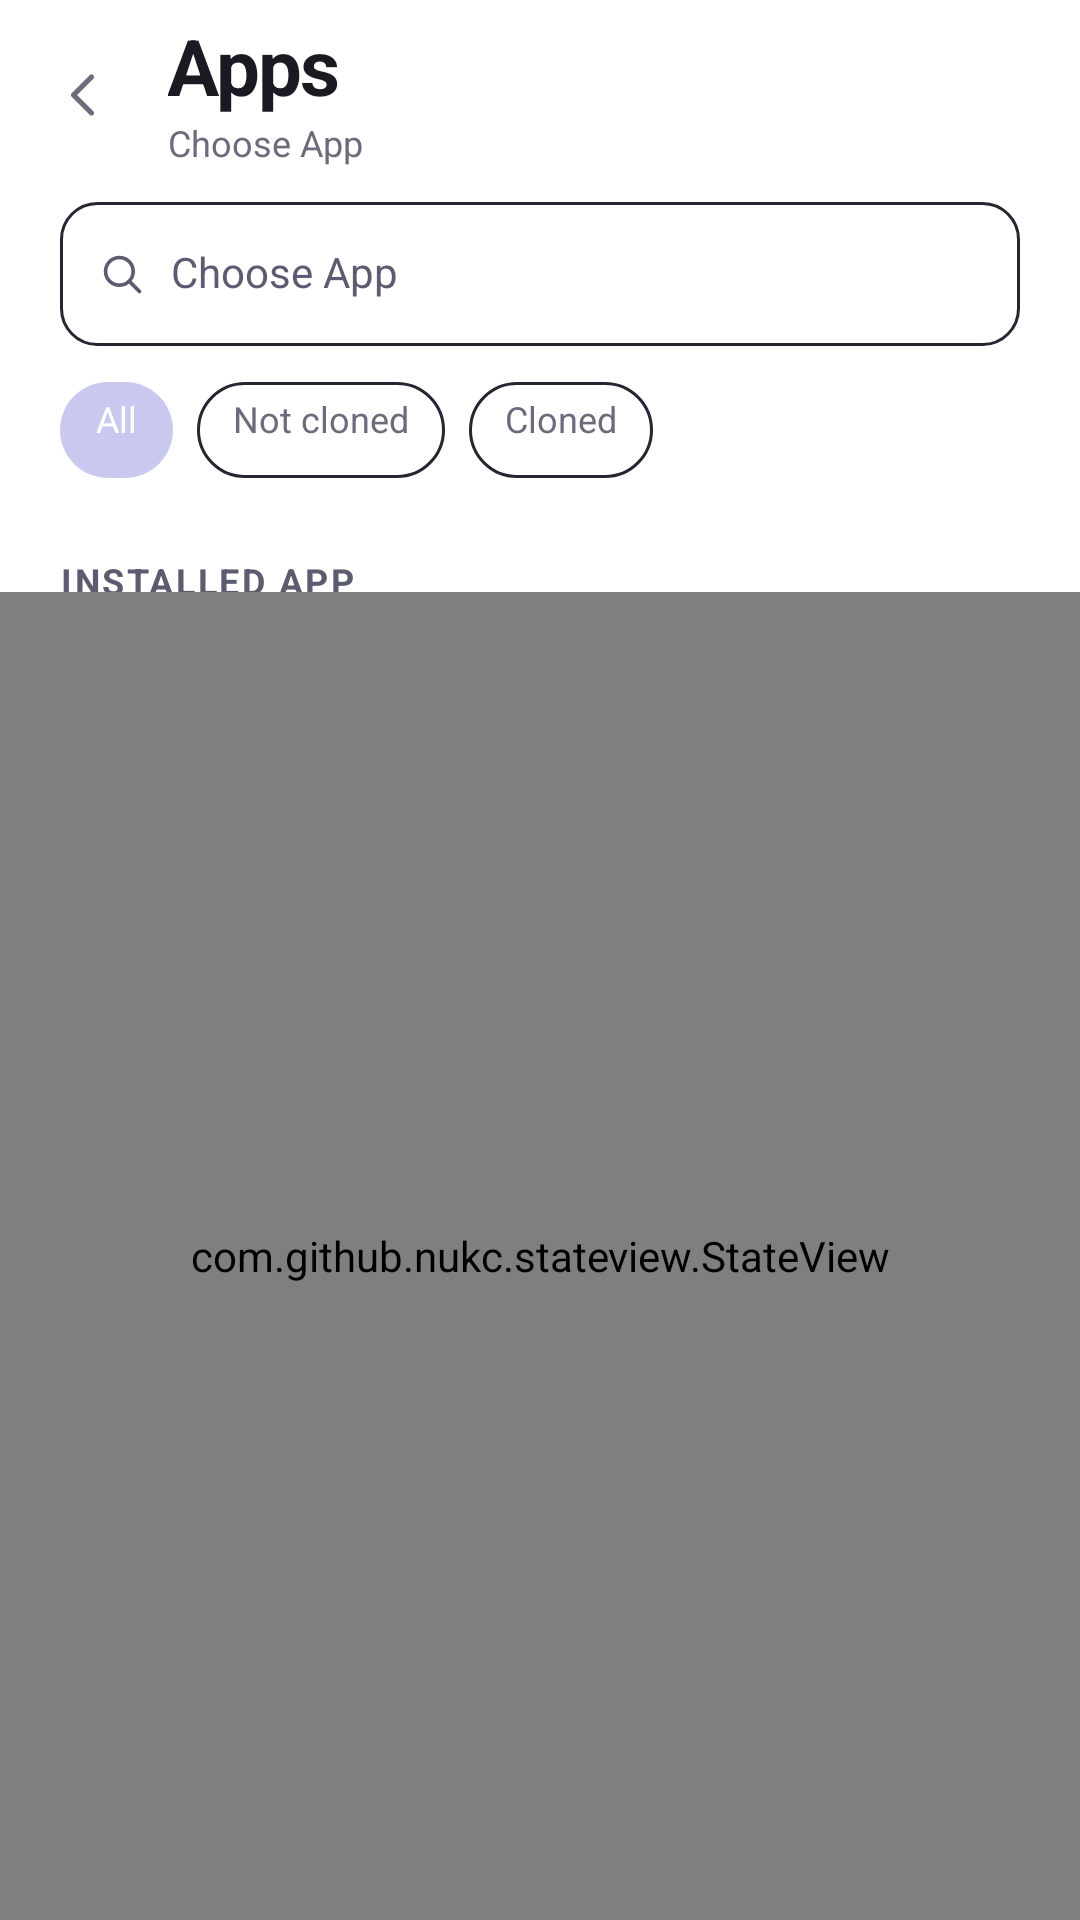

Where icons sit on this 1080 x 1920 app screen, as (x1, y1, x2, y2):
arrow back: (71, 74, 94, 116)
search: (103, 255, 142, 294)
